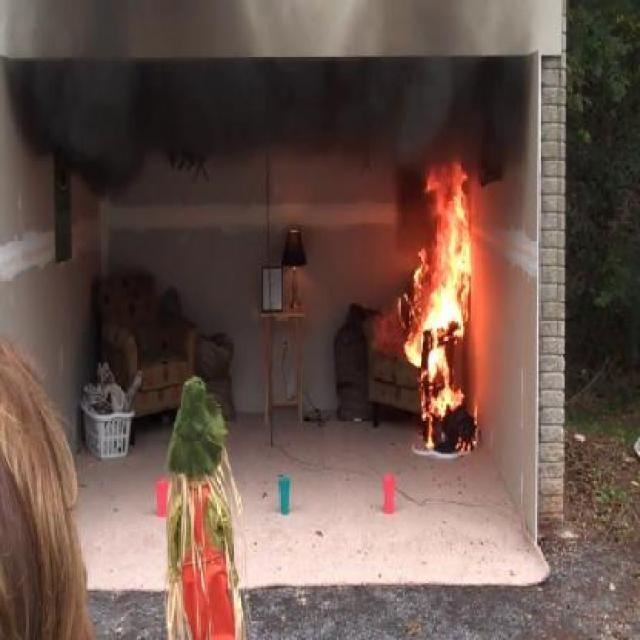fire: (393, 178, 493, 454)
smoke: (144, 44, 548, 148)
